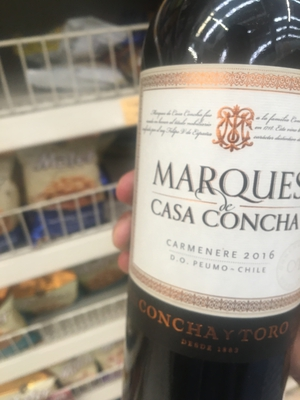marques de casa concha carmenere: (116, 16, 300, 392)
